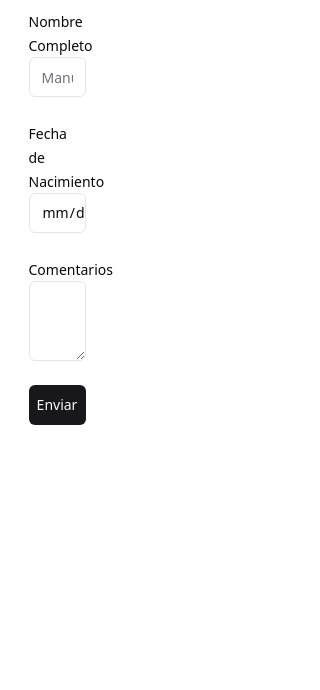
Test: Formulario › debe mostrar un mensaje de error si los datos del formulario no son válidos
This screenshot has width=320, height=690.
Enviar el formulario
Click the button "Enviar". click: (57, 405)
box: x1=28 y1=385 x2=86 y2=425
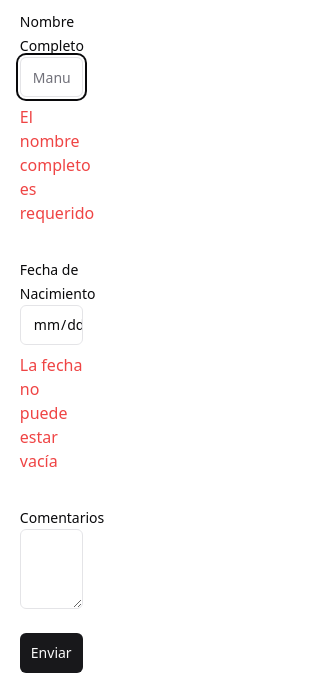
Expected: the text "El nombre completo es requerido" is shown, x1=20 y1=105 x2=94 y2=225
Expected: the text "La fecha no puede estar vacía" is shown, x1=20 y1=353 x2=83 y2=473
